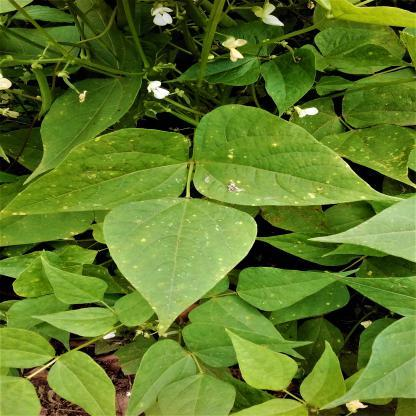Beans_Rust: (194, 107, 405, 205), (108, 198, 254, 326), (3, 129, 190, 219), (236, 266, 352, 317), (326, 128, 416, 181), (262, 228, 342, 266), (0, 252, 56, 296)
